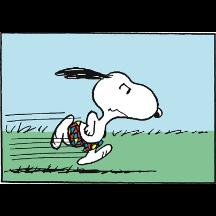snoopy: (50, 67, 164, 166)
